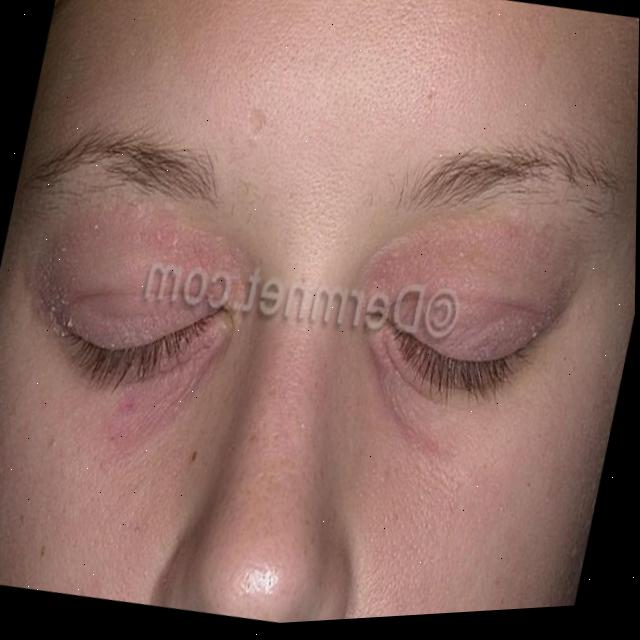Eczema: (25, 223, 131, 345), (97, 365, 192, 445), (522, 279, 586, 347)
